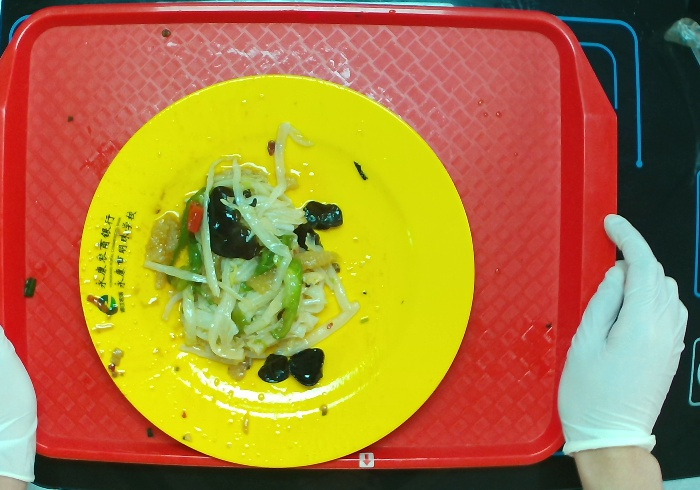YKMZ-Huang_Se_Mian_Pan: (65, 69, 476, 473)
